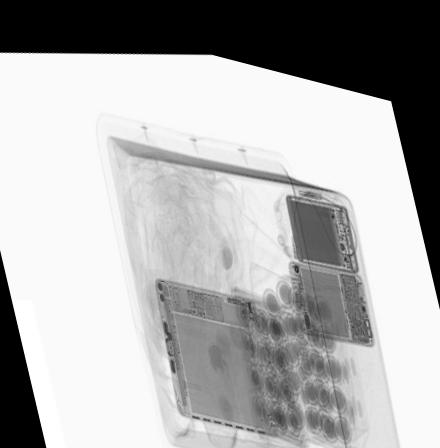Powerbank: (284, 180, 357, 252)
